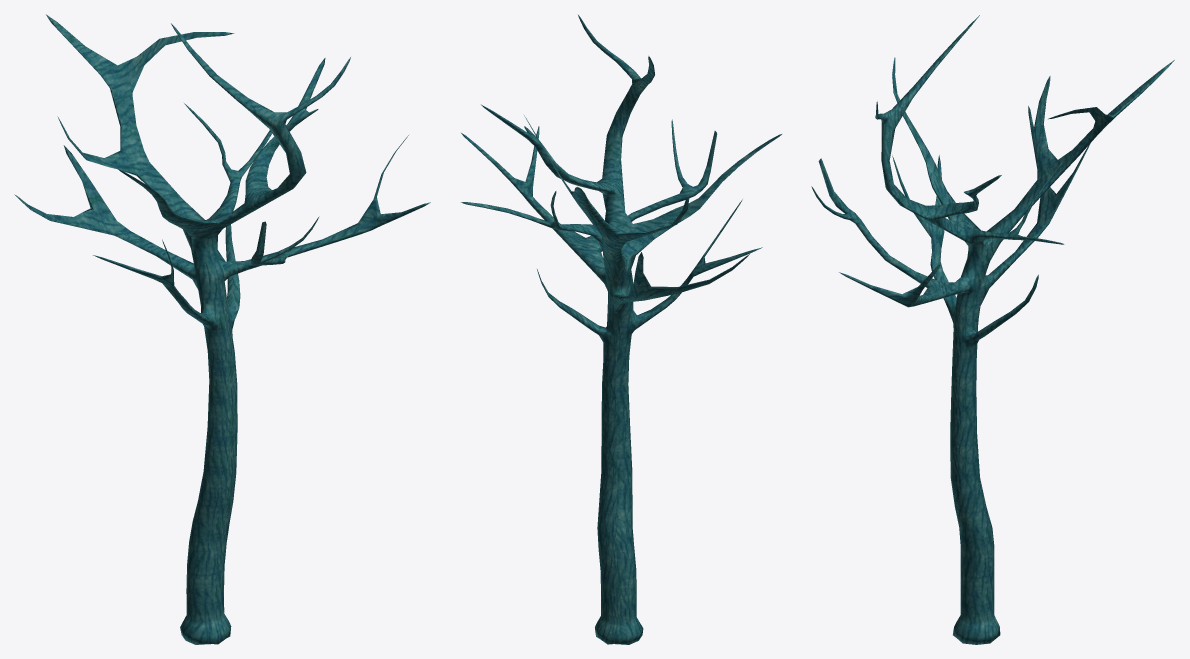
File: Arbol.obj
3 views of the same model, side by side, from view 1: azimuth 30°, elevation 25°; view 2: azimuth 150°, elevation 25°; view 3: azimuth 270°, elevation 25° (orthographic). The views are drawn at different scales.
Visible parts, largest first — view 1: Arbol:Mesh; view 2: Arbol:Mesh; view 3: Arbol:Mesh.
Boxes of the visible parts, x1=… form: Arbol:Mesh: x1=14, y1=14, x2=430, y2=644; Arbol:Mesh: x1=461, y1=15, x2=781, y2=644; Arbol:Mesh: x1=811, y1=15, x2=1174, y2=644.
Bounding box in the file's own units: 8.02 × 13.62 × 7.4.
Materials: 1 (1 with a texture image).
